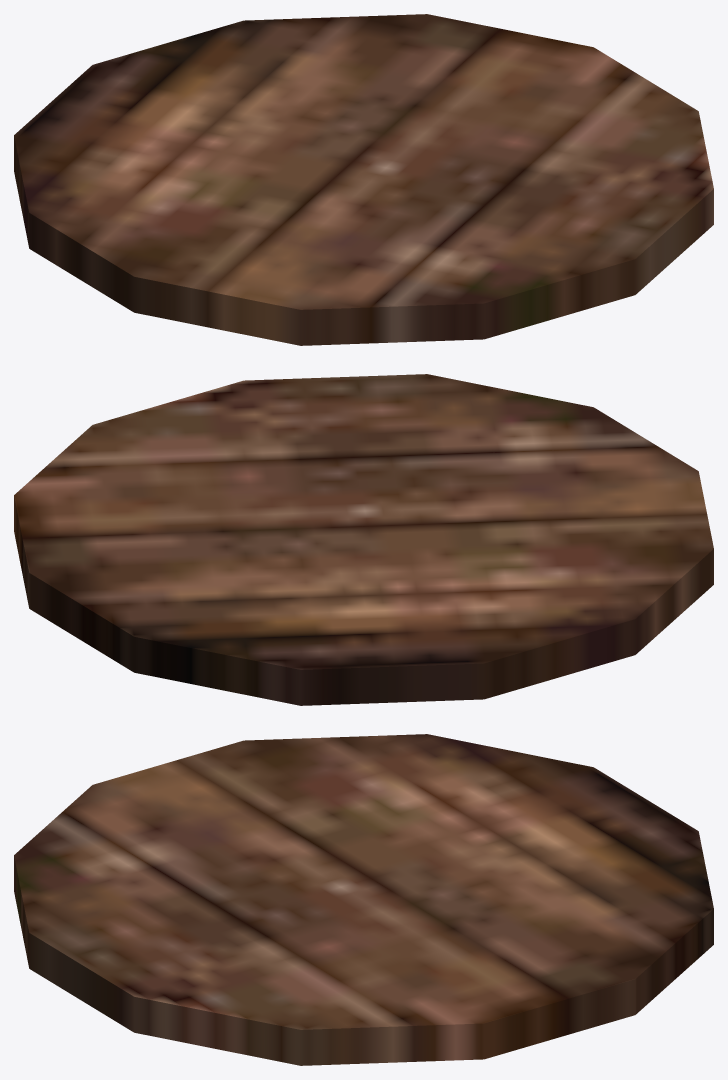
The model's file is wrld_barrel_a_cap.dae.
3 views of the same model, one above another, from view 1: azimuth 30°, elevation 25°; view 2: azimuth 150°, elevation 25°; view 3: azimuth 270°, elevation 25° (orthographic).
Parts seen in each view (by area): view 1: barrel_cap_01; view 2: barrel_cap_01; view 3: barrel_cap_01.
Boxes of the visible parts, left/top/right/bottom form: barrel_cap_01: left=14, top=14, right=713, bottom=345; barrel_cap_01: left=14, top=374, right=713, bottom=705; barrel_cap_01: left=14, top=734, right=713, bottom=1065.
Bounding box in the file's own units: 1.25 × 1.25 × 0.0708.
